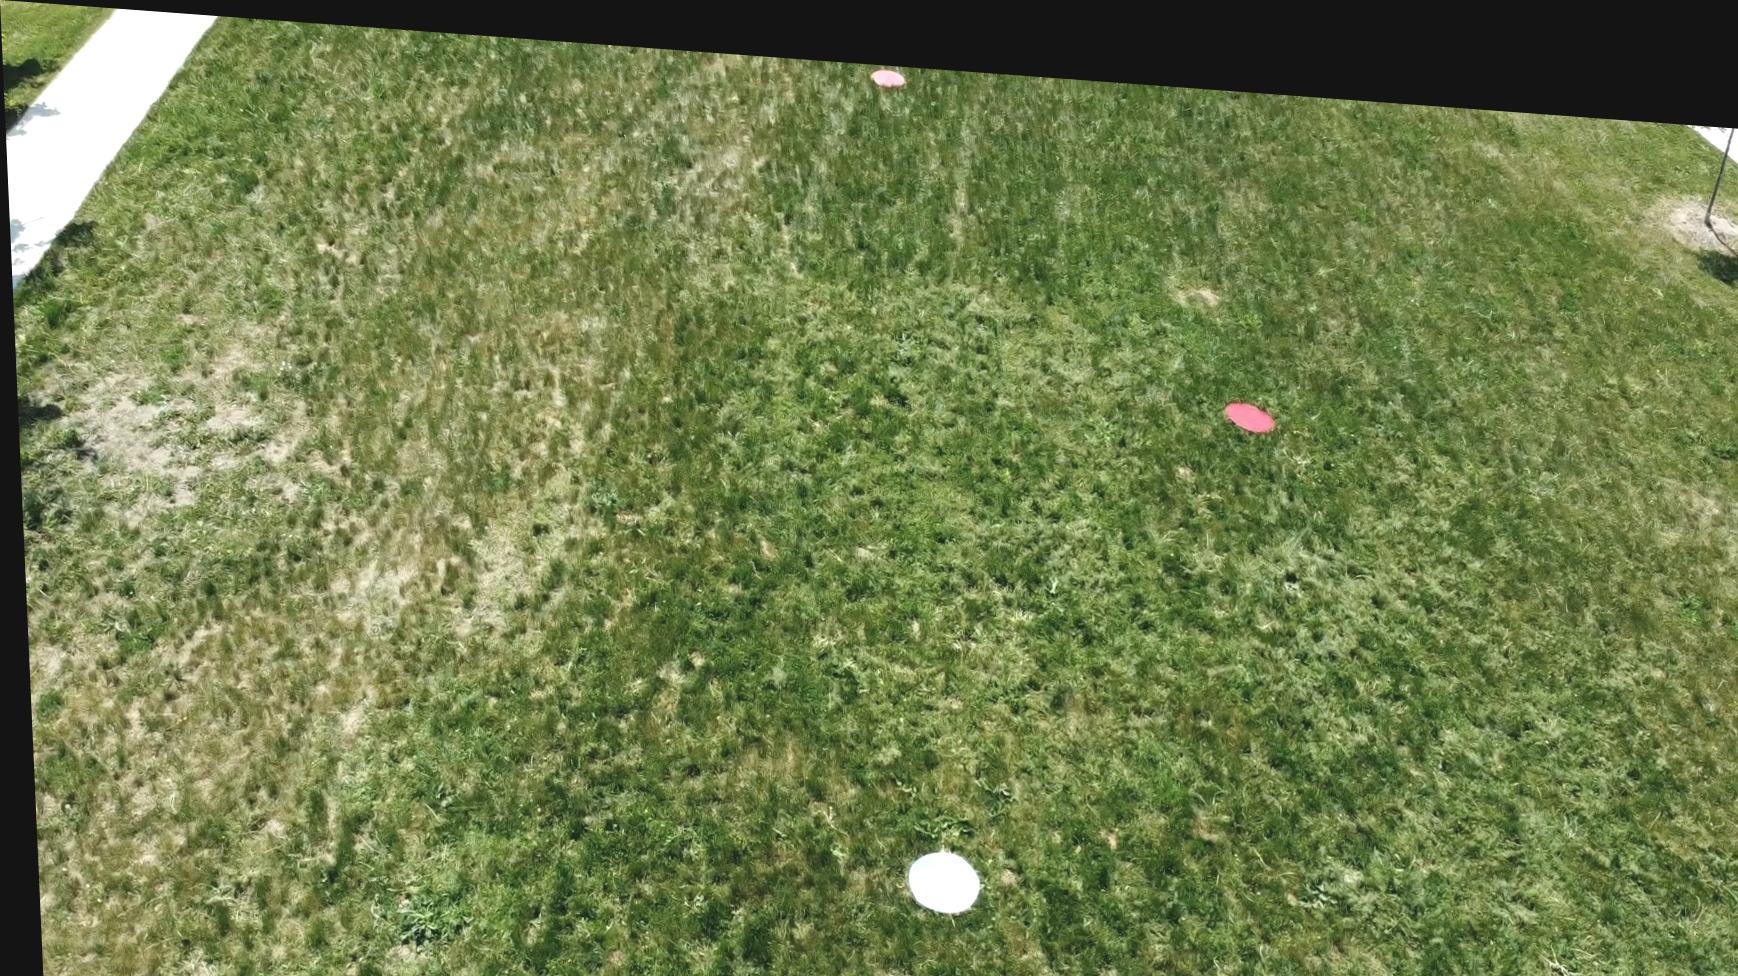Blue: (894, 830, 979, 904)
Red: (1219, 378, 1277, 418), (869, 52, 907, 75)
